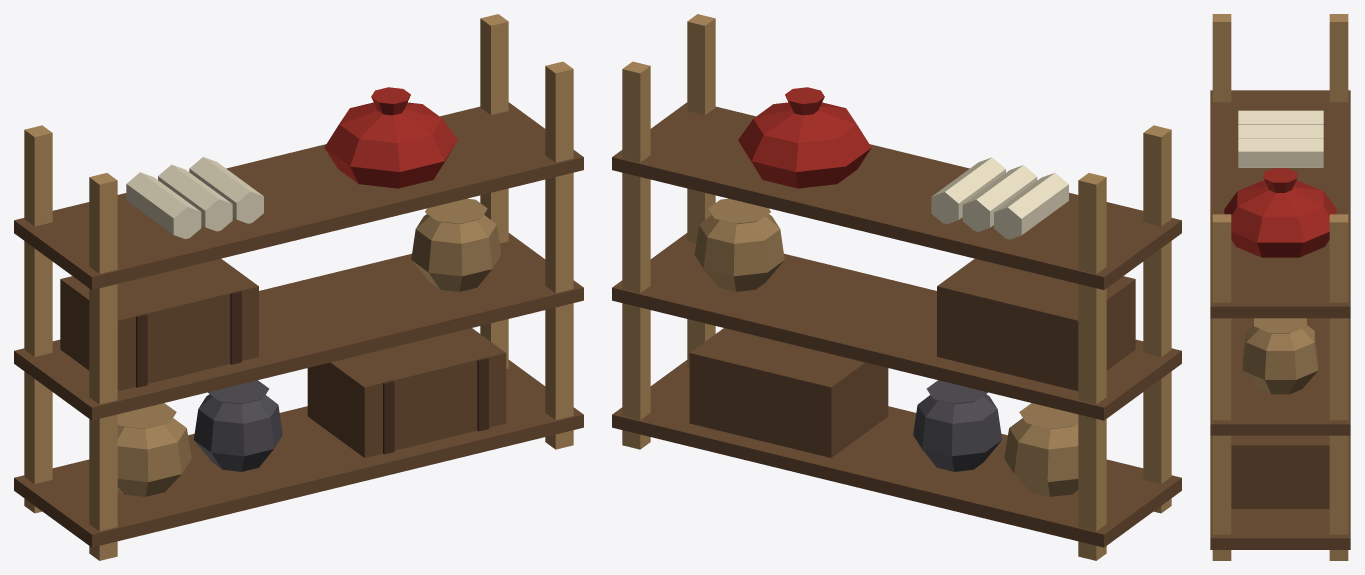
File: fn_shelf.glb
3 views of the same model, side by side, from view 1: azimuth 30°, elevation 25°; view 2: azimuth 150°, elevation 25°; view 3: azimuth 270°, elevation 25° (orthographic). The views are drawn at different scales.
Visible parts, largest first — view 1: fn_shelf__plank, fn_shelf__wood_pine, fn_shelf__earth, fn_shelf__cloth_red, fn_shelf__paper, fn_shelf__stone_dark, fn_shelf__wood_dark; view 2: fn_shelf__plank, fn_shelf__wood_pine, fn_shelf__earth, fn_shelf__cloth_red, fn_shelf__paper, fn_shelf__stone_dark; view 3: fn_shelf__plank, fn_shelf__wood_pine, fn_shelf__cloth_red, fn_shelf__paper, fn_shelf__earth.
Boxes of the visible parts, bbox=[...] form: fn_shelf__plank: bbox=[14, 102, 583, 547]; fn_shelf__wood_pine: bbox=[24, 14, 573, 560]; fn_shelf__earth: bbox=[117, 198, 501, 496]; fn_shelf__cloth_red: bbox=[324, 87, 457, 188]; fn_shelf__paper: bbox=[126, 157, 263, 238]; fn_shelf__stone_dark: bbox=[194, 380, 282, 471]; fn_shelf__wood_dark: bbox=[136, 291, 488, 454]; fn_shelf__plank: bbox=[612, 102, 1181, 547]; fn_shelf__wood_pine: bbox=[622, 14, 1171, 560]; fn_shelf__earth: bbox=[694, 198, 1078, 496]; fn_shelf__cloth_red: bbox=[738, 87, 871, 188]; fn_shelf__paper: bbox=[931, 157, 1068, 239]; fn_shelf__stone_dark: bbox=[913, 380, 1001, 471]; fn_shelf__plank: bbox=[1210, 90, 1350, 549]; fn_shelf__wood_pine: bbox=[1212, 14, 1348, 560]; fn_shelf__cloth_red: bbox=[1224, 168, 1336, 257]; fn_shelf__paper: bbox=[1238, 110, 1323, 167]; fn_shelf__earth: bbox=[1242, 318, 1318, 394].
Bounding box in the file's own units: 21.9 × 16 × 6.
